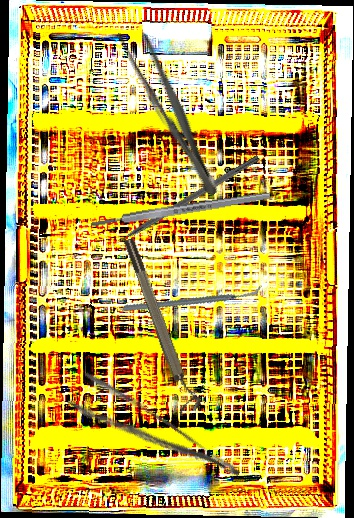Chopper: (121, 248, 263, 349)
Dressing Forceps: (66, 368, 243, 504), (112, 21, 229, 202)
Fixation Ring: (120, 234, 204, 416)
Hook Surgical: (101, 153, 261, 254)
Scalpel Handle: (89, 190, 272, 230)
